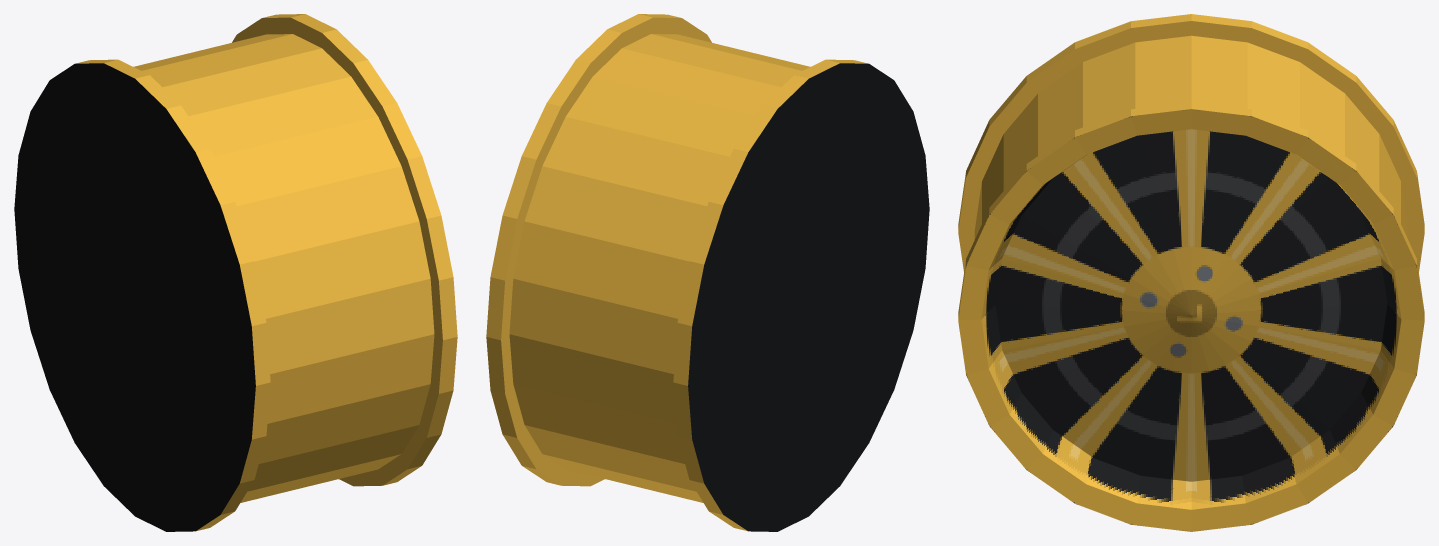
Rendered from lumiar_dez_14.glb.
The picture shows the model from 3 angles, left to right: view 1: azimuth 30°, elevation 25°; view 2: azimuth 150°, elevation 25°; view 3: azimuth 270°, elevation 25°; orthographic projection. The views are drawn at different scales.
Visible parts, largest first — view 1: lumiar_dez_14; view 2: lumiar_dez_14; view 3: lumiar_dez_14.
Boxes of the visible parts, x1,y1,x2,y2 form: lumiar_dez_14: [14, 14, 457, 531]; lumiar_dez_14: [486, 14, 929, 531]; lumiar_dez_14: [958, 14, 1424, 531].
Bounding box in the file's own units: 0.192 × 0.3983 × 0.3983.
1 material, 1 textured.
